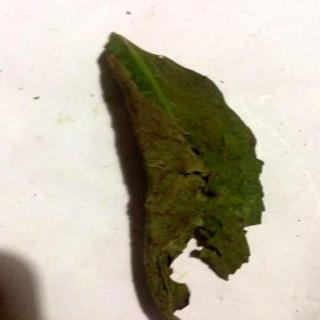Red Leaf Spot: (98, 33, 263, 320)
